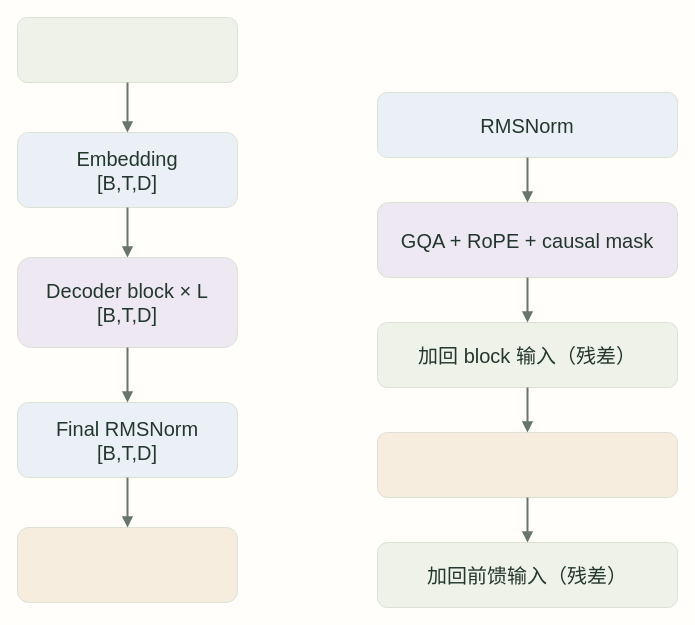
Image size: 695x625. Some labels were removed from this diagram. Each missing label, with the centre of its shape:
"LM Head → logits [B,T,V]" belongs at point 127,564.
"RMSNorm → SwiGLU" belongs at point 527,465.
"token IDs [B,T]" belongs at point 127,49.
